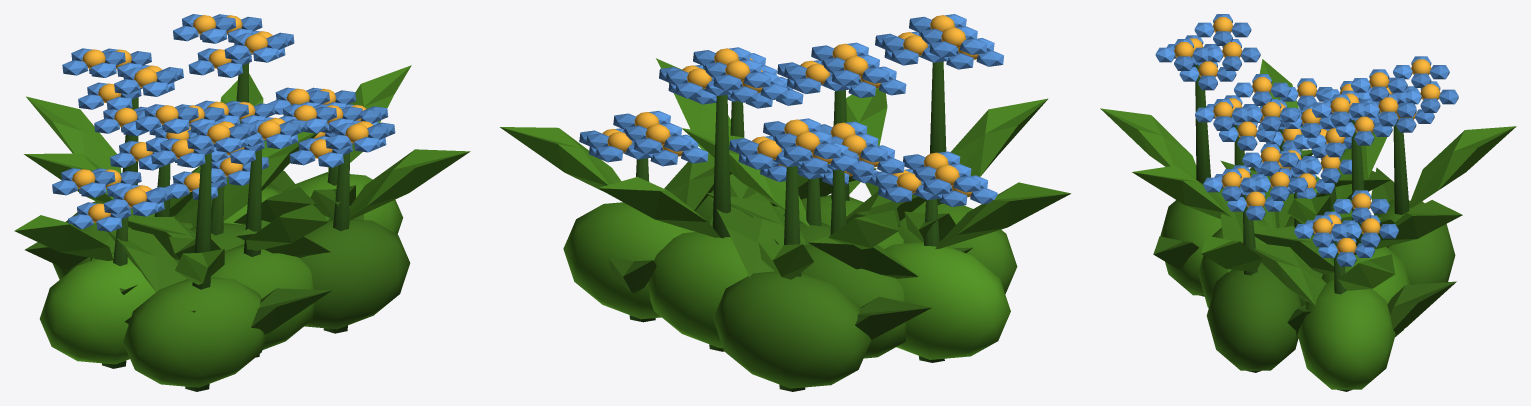
File: hydrangea.glb
The picture shows the model from 3 angles, left to right: view 1: azimuth 30°, elevation 25°; view 2: azimuth 150°, elevation 25°; view 3: azimuth 270°, elevation 25°; orthographic projection. The views are drawn at different scales.
Visible parts, largest first — view 1: hydrangea; view 2: hydrangea; view 3: hydrangea.
Part boxes in pixels (box(x1,y1,x2,y2)): hydrangea: box(14, 14, 470, 391); hydrangea: box(500, 14, 1071, 391); hydrangea: box(1100, 14, 1516, 391).
Size of the model in its own units: 1.1 by 0.63 by 0.9.
